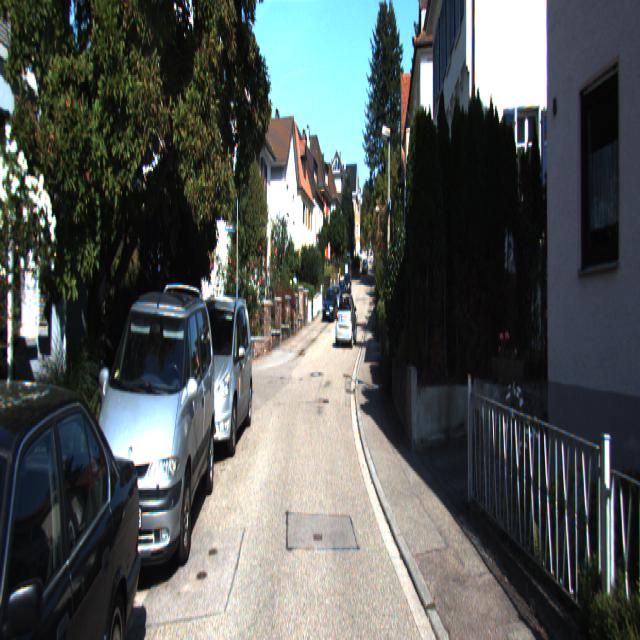Car: (0, 327, 147, 639), (84, 257, 217, 588), (174, 283, 254, 457), (336, 290, 358, 348)
